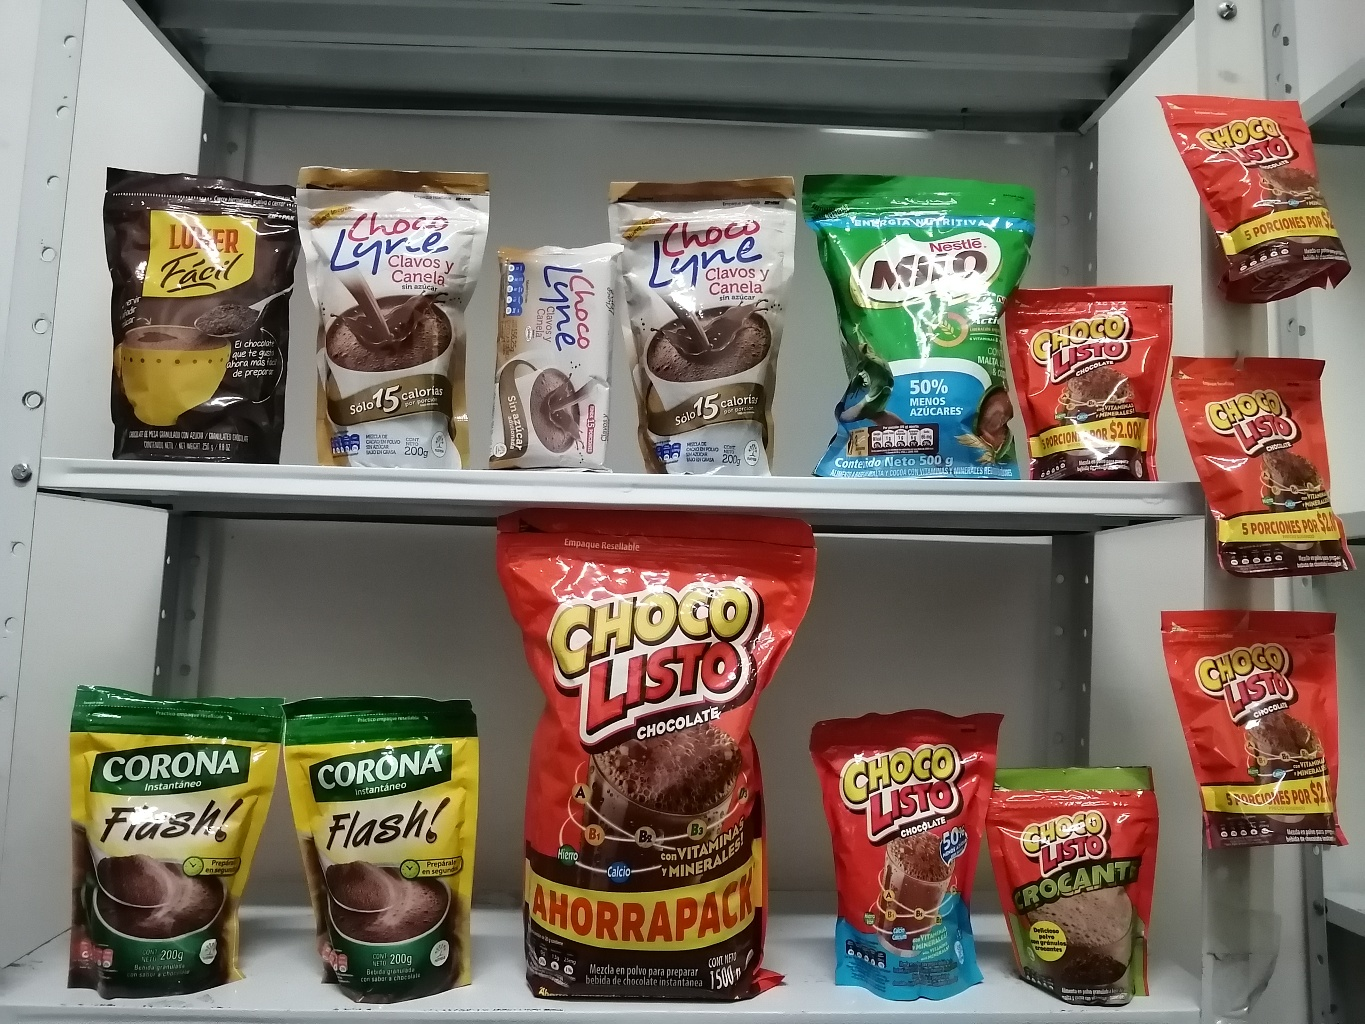COL0170102DYP10000: (996, 762, 1174, 1002)
COL0170103DYP1,500: (500, 495, 805, 1006)
COL0170104DYP20000: (812, 710, 991, 992)
COL0170205DYP50000: (805, 163, 1042, 504)
